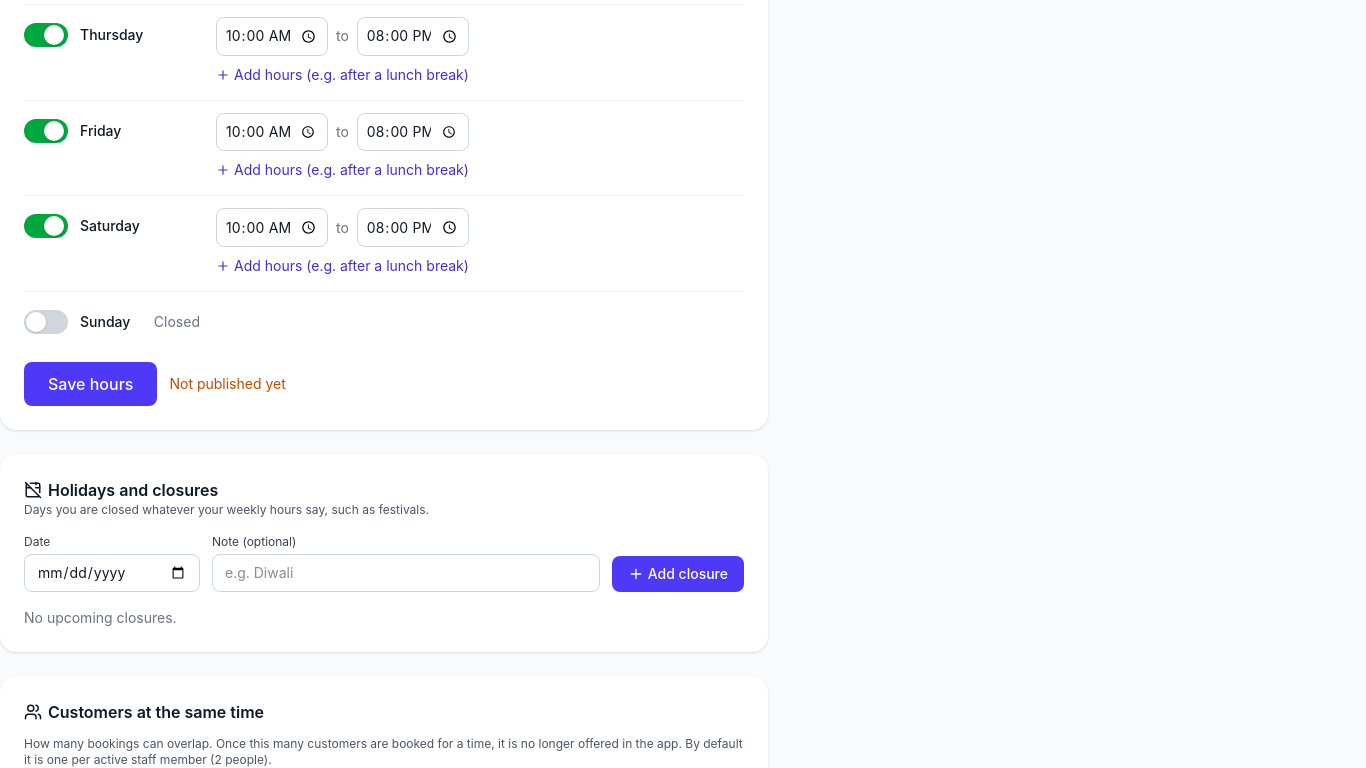
Test: OpeningHoursPage weekly hours › starts a shop without hours from Monday to Saturday, 10 to 8, and publishes them on save
(page scrolled)
Expected: the time field named "Saturday closes" holds "20:00", [357,208,469,247]
Expected: the text "Not published yet" is shown, [170,374,286,394]
Click the button "Save hours" at (91, 384), box [24,362,158,406]
(page scrolled)
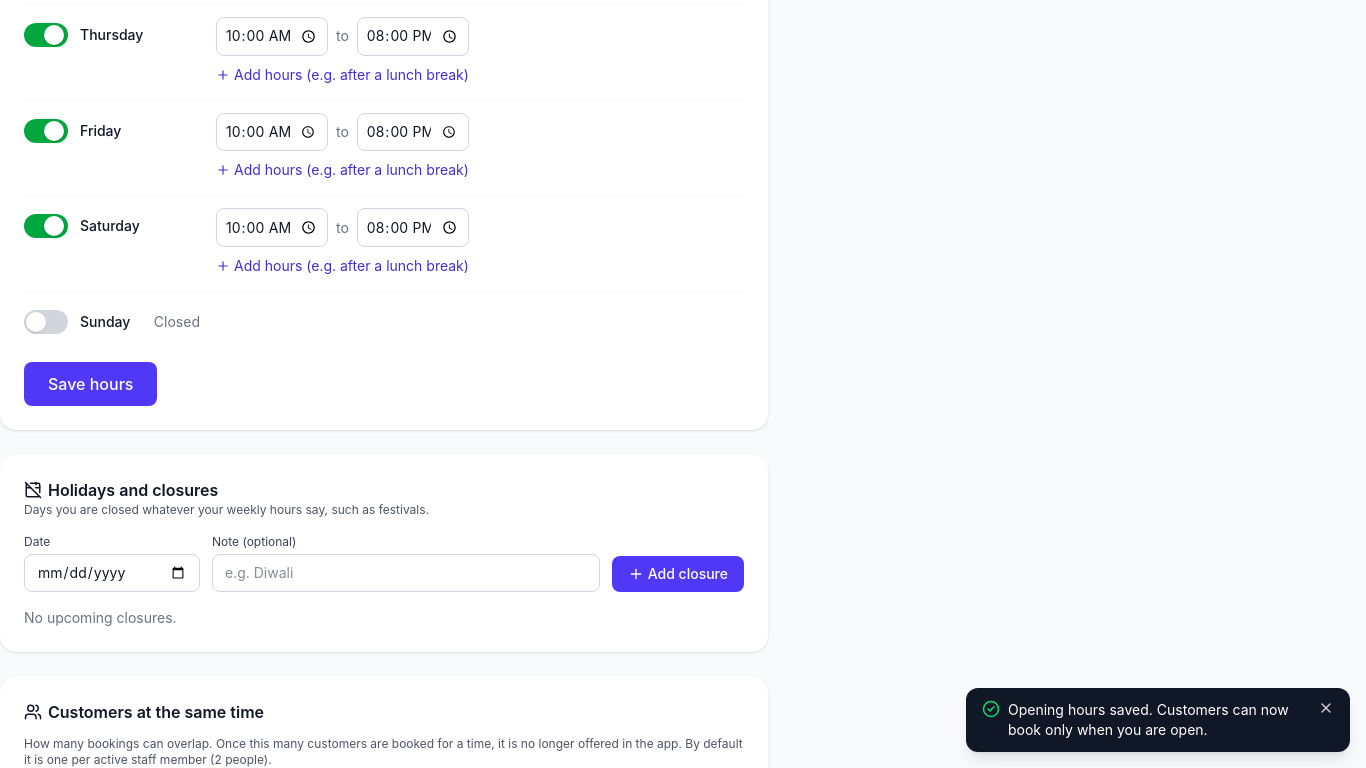
Result: the text "Opening hours saved" is shown at [1008,701,1289,738]
